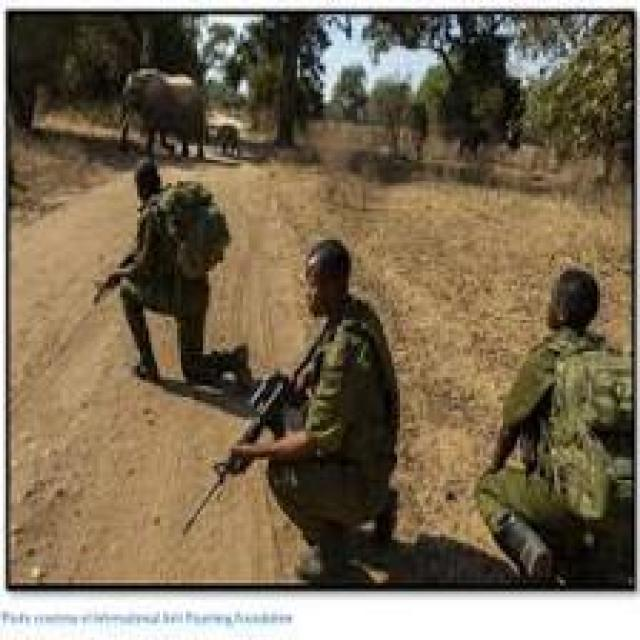Rifle: (178, 366, 302, 535)
